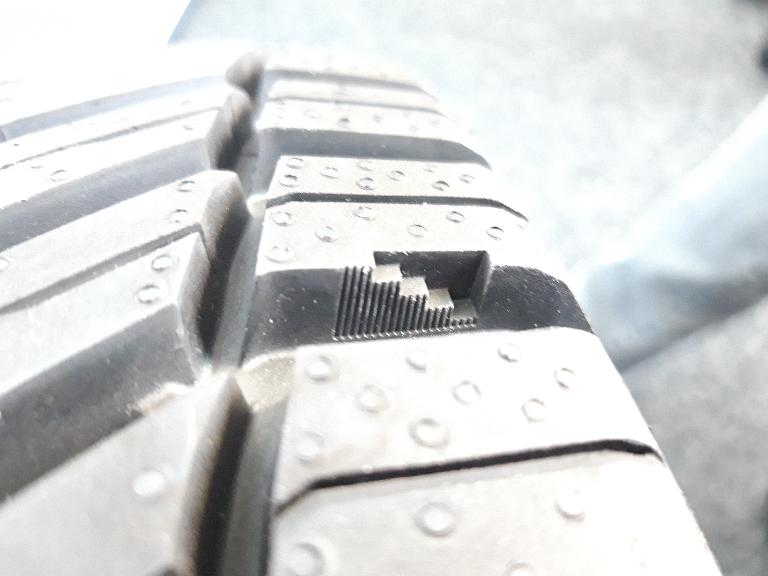temoin:100: (330, 246, 499, 346)
